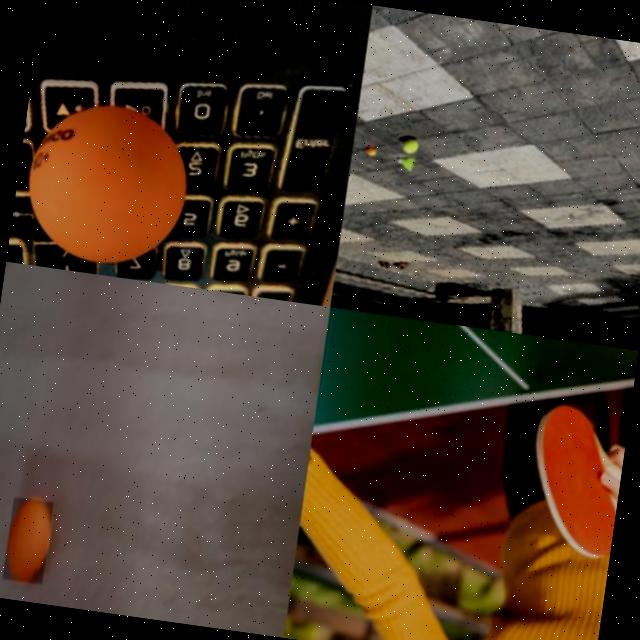ping-pong-ball: (16, 92, 198, 272), (1, 494, 53, 584), (366, 147, 376, 156)
